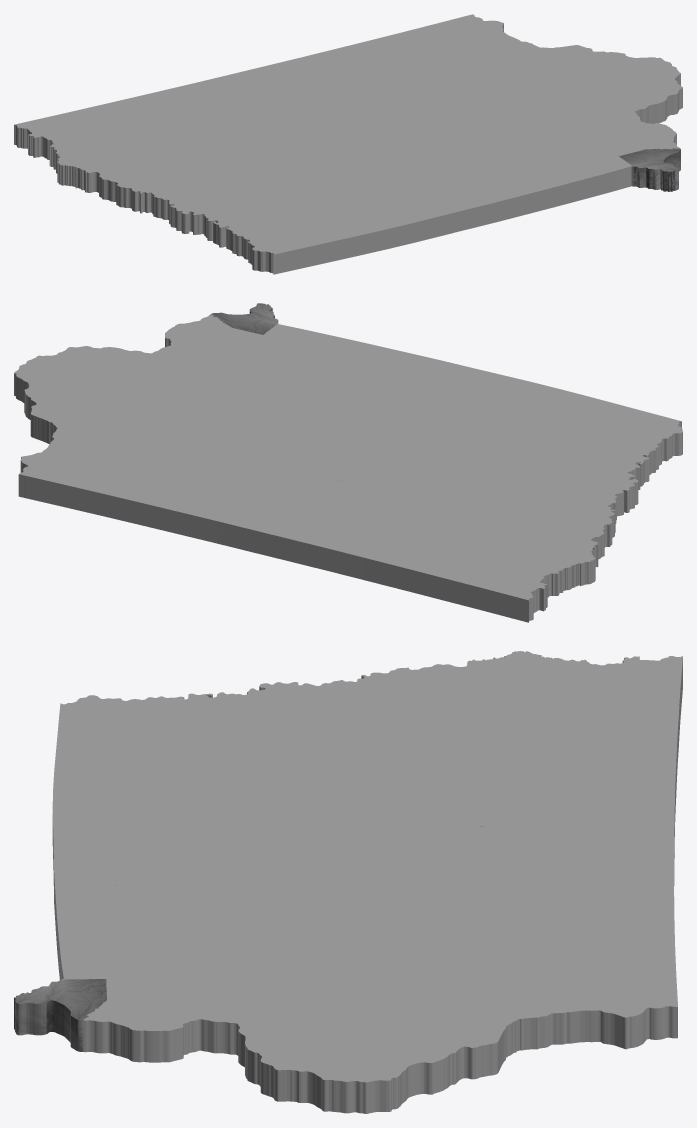
Rendered from iowa.obj.
3 views of the same model, one above another, from view 1: azimuth 30°, elevation 25°; view 2: azimuth 150°, elevation 25°; view 3: azimuth 270°, elevation 25° (orthographic). The views are drawn at different scales.
Parts seen in each view (by area): view 1: pottawattamie_pottawattamie.mesh, woodbury_woodbury.mesh, fremont_fremont.mesh, monona_monona.mesh, lee_lee.mesh, plymouth_plymouth.mesh, harrison_harrison.mesh, sioux_sioux.mesh, decatur_decatur.mesh, page_page.mesh, ringgold_ringgold.mesh, taylor_taylor.mesh (+87 smaller); view 2: lyon_lyon.mesh, kossuth_kossuth.mesh, winneshiek_winneshiek.mesh, plymouth_plymouth.mesh, pottawattamie_pottawattamie.mesh, allamakee_allamakee.mesh, sioux_sioux.mesh, woodbury_woodbury.mesh, howard_howard.mesh, mitchell_mitchell.mesh, harrison_harrison.mesh, dickinson_dickinson.mesh (+87 smaller); view 3: clayton_clayton.mesh, allamakee_allamakee.mesh, clinton_clinton.mesh, jackson_jackson.mesh, dubuque_dubuque.mesh, lee_lee.mesh, des_moines_des_moines.mesh, kossuth_kossuth.mesh, scott_scott.mesh, pottawattamie_pottawattamie.mesh, woodbury_woodbury.mesh, plymouth_plymouth.mesh (+87 smaller).
Boxes of the visible parts, box(x1,y1,x2,y2) form: pottawattamie_pottawattamie.mesh: box(193, 196, 290, 247); woodbury_woodbury.mesh: box(82, 155, 176, 201); fremont_fremont.mesh: box(248, 231, 308, 274); monona_monona.mesh: box(116, 171, 199, 217); lee_lee.mesh: box(619, 148, 680, 191); plymouth_plymouth.mesh: box(56, 140, 137, 189); harrison_harrison.mesh: box(158, 186, 237, 233); sioux_sioux.mesh: box(32, 122, 115, 172); decatur_decatur.mesh: box(410, 192, 472, 238); page_page.mesh: box(288, 221, 350, 266); ringgold_ringgold.mesh: box(369, 202, 431, 248); taylor_taylor.mesh: box(328, 212, 390, 257); lyon_lyon.mesh: box(460, 569, 545, 622); kossuth_kossuth.mesh: box(281, 504, 372, 570); winneshiek_winneshiek.mesh: box(56, 459, 131, 515); plymouth_plymouth.mesh: box(507, 531, 595, 588); pottawattamie_pottawattamie.mesh: box(551, 437, 649, 489); allamakee_allamakee.mesh: box(18, 449, 85, 504); sioux_sioux.mesh: box(480, 550, 570, 607); woodbury_woodbury.mesh: box(523, 507, 609, 567); howard_howard.mesh: box(101, 477, 168, 526); mitchell_mitchell.mesh: box(147, 488, 213, 537); harrison_harrison.mesh: box(561, 464, 638, 519); dickinson_dickinson.mesh: box(371, 546, 434, 593); clayton_clayton.mesh: box(494, 982, 588, 1061); allamakee_allamakee.mesh: box(587, 981, 677, 1049); clinton_clinton.mesh: box(305, 1031, 371, 1113); jackson_jackson.mesh: box(368, 1031, 443, 1112); dubuque_dubuque.mesh: box(422, 1014, 503, 1089); lee_lee.mesh: box(14, 979, 106, 1051); des_moines_des_moines.mesh: box(83, 1000, 163, 1062); kossuth_kossuth.mesh: box(547, 795, 674, 857); scott_scott.mesh: box(245, 1032, 314, 1102); pottawattamie_pottawattamie.mesh: box(179, 688, 256, 746); woodbury_woodbury.mesh: box(404, 659, 482, 713); plymouth_plymouth.mesh: box(479, 651, 557, 702).
Size of the model in its own units: 1.88 by 0.0641 by 1.23.
Materials: 2 (1 with a texture image).
